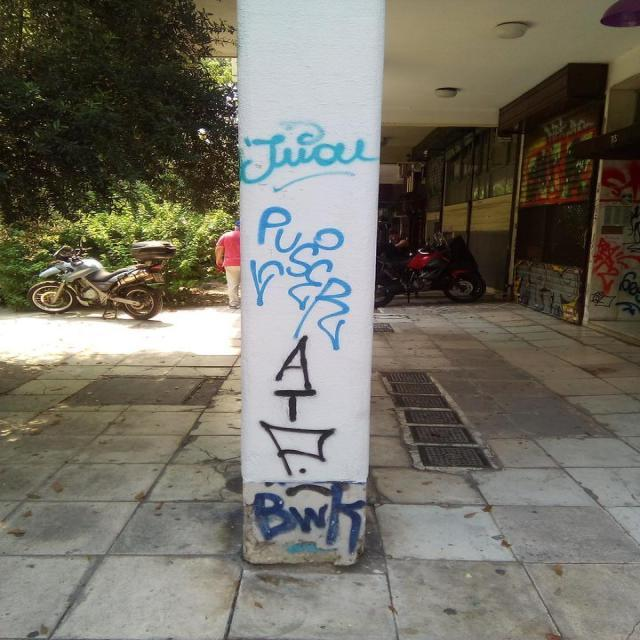nonspitting: (251, 202, 350, 352), (260, 333, 336, 475), (238, 121, 378, 195), (252, 480, 364, 550)
